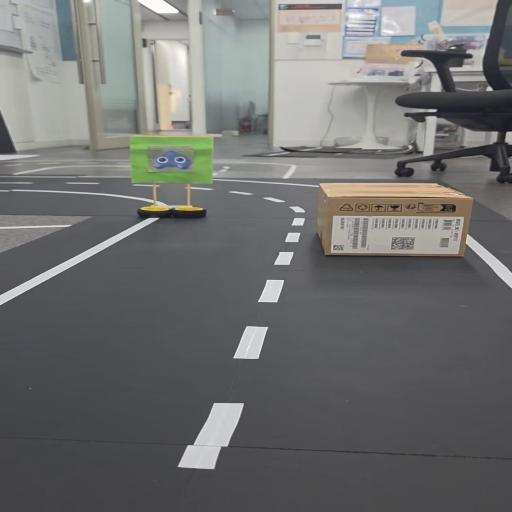Box: (308, 180, 475, 262)
Sign_B: (132, 129, 216, 222)
